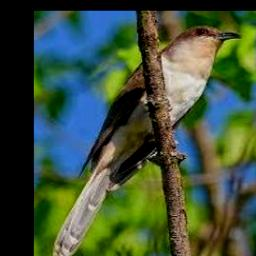Cuckoo: (51, 25, 239, 256)
